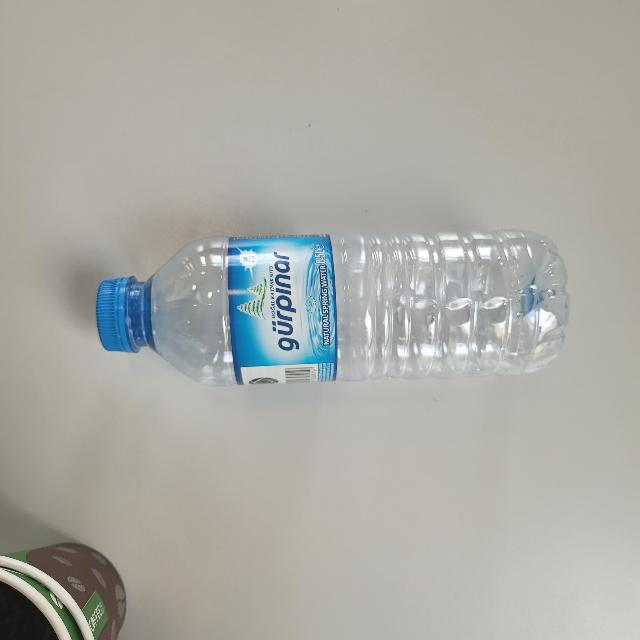Kagit: (0, 537, 139, 640)
Plastik: (87, 226, 576, 393)
